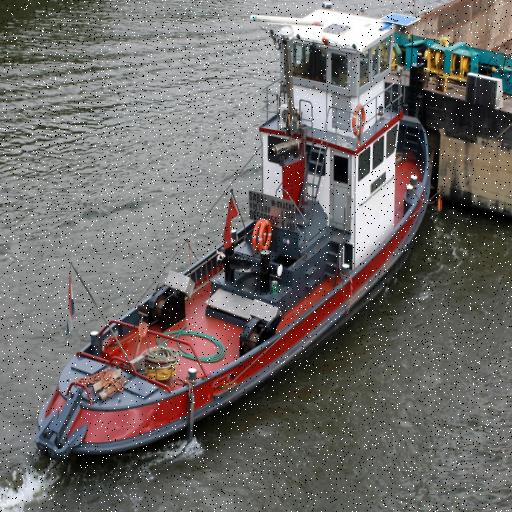tugboat: (31, 1, 446, 477)
